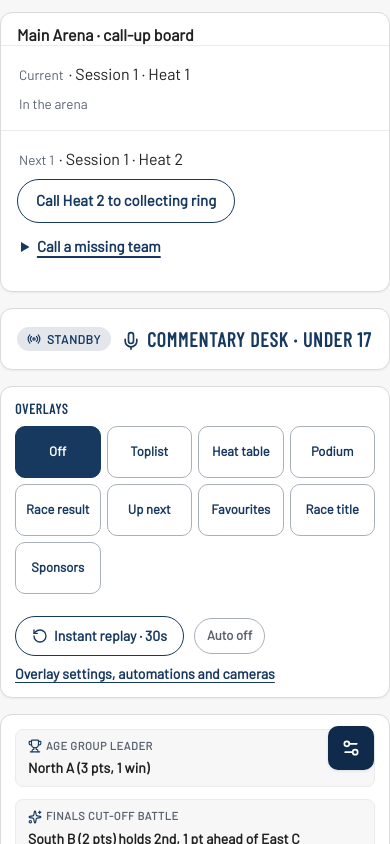
Test: CommentaryDeskPage in the dock › moves the header controls into a sheet and keeps the title on the page
Expected: the button "QR access" is not shown
Expected: the link "TV kiosk" is not shown
Click the button named "Commentary desk controls".
click(351, 748)  # box [328,726,374,770]
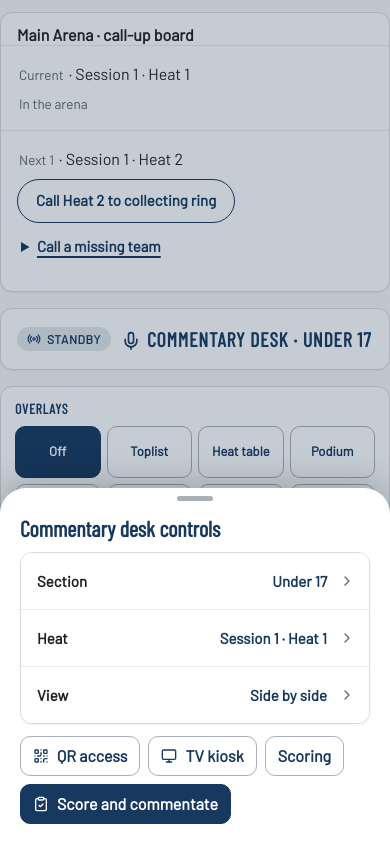
Now the button "View Side by side" is shown, box [21,667,369,723]
Now the link "TV kiosk" is shown, box [148,736,257,776]
Now the link "Score and commentate" is shown, box [20,784,231,824]
Click the button "QR access".
click(80, 756)  # box [20,736,140,776]
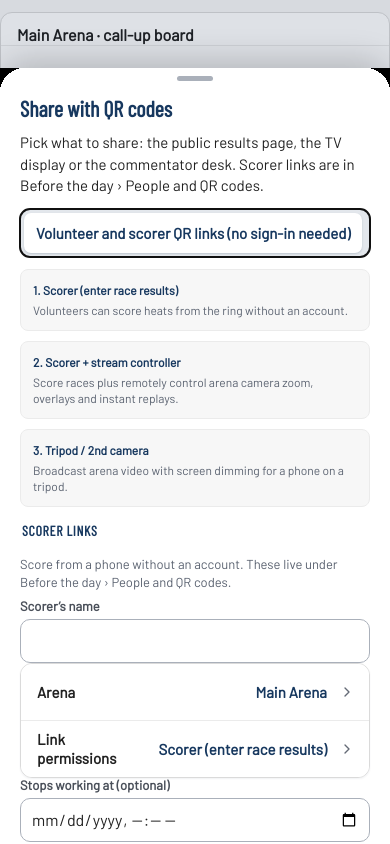
Now the dialog "Share with QR codes" is shown
